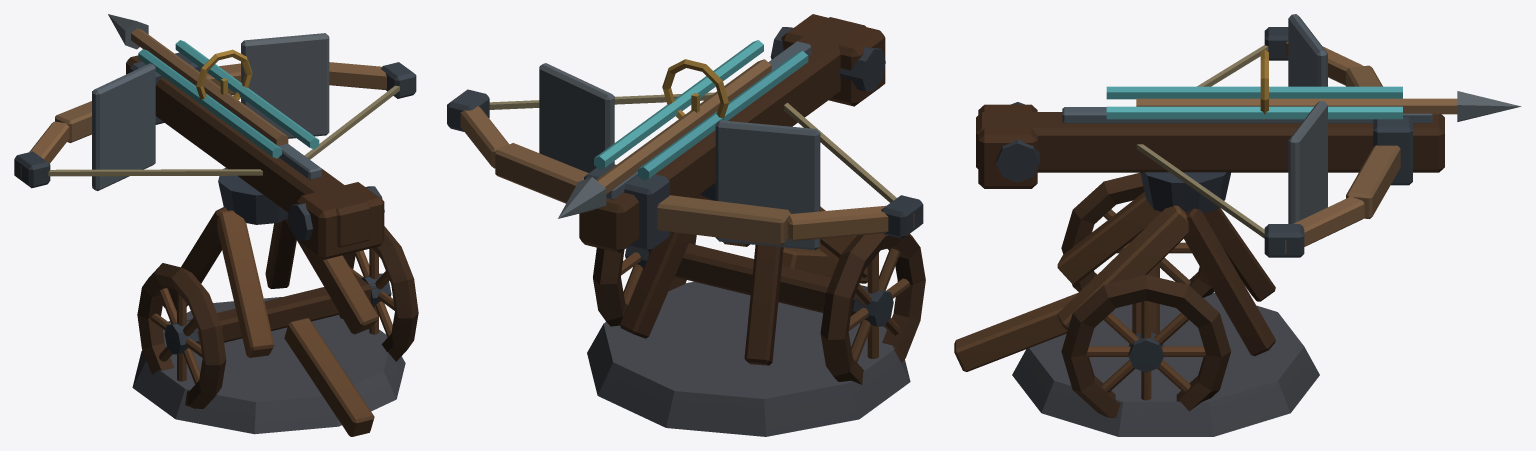
File: def_ballista.glb
3 renders of one model, left to right at view 1: azimuth 30°, elevation 25°; view 2: azimuth 150°, elevation 25°; view 3: azimuth 270°, elevation 25°, orthographic. The views are drawn at different scales.
Visible parts, largest first — view 1: Base, Bow, Up2Bow, Up3Bow; view 2: Base, Bow, Up2Bow, Up3Bow; view 3: Base, Bow, Up2Bow, Up3Bow.
Boxes of the visible parts, x1,y1,x2,y2 form: Base: [132, 168, 418, 436]; Bow: [20, 14, 399, 259]; Up2Bow: [14, 33, 416, 190]; Up3Bow: [138, 40, 319, 158]; Base: [587, 183, 925, 436]; Bow: [460, 14, 914, 252]; Up2Bow: [447, 63, 923, 250]; Up3Bow: [594, 40, 808, 180]; Base: [954, 172, 1319, 436]; Bow: [976, 41, 1521, 253]; Up2Bow: [1264, 14, 1327, 257]; Up3Bow: [1106, 49, 1402, 120].
Size of the model in its own units: 2.5 by 1.8 by 2.87.
